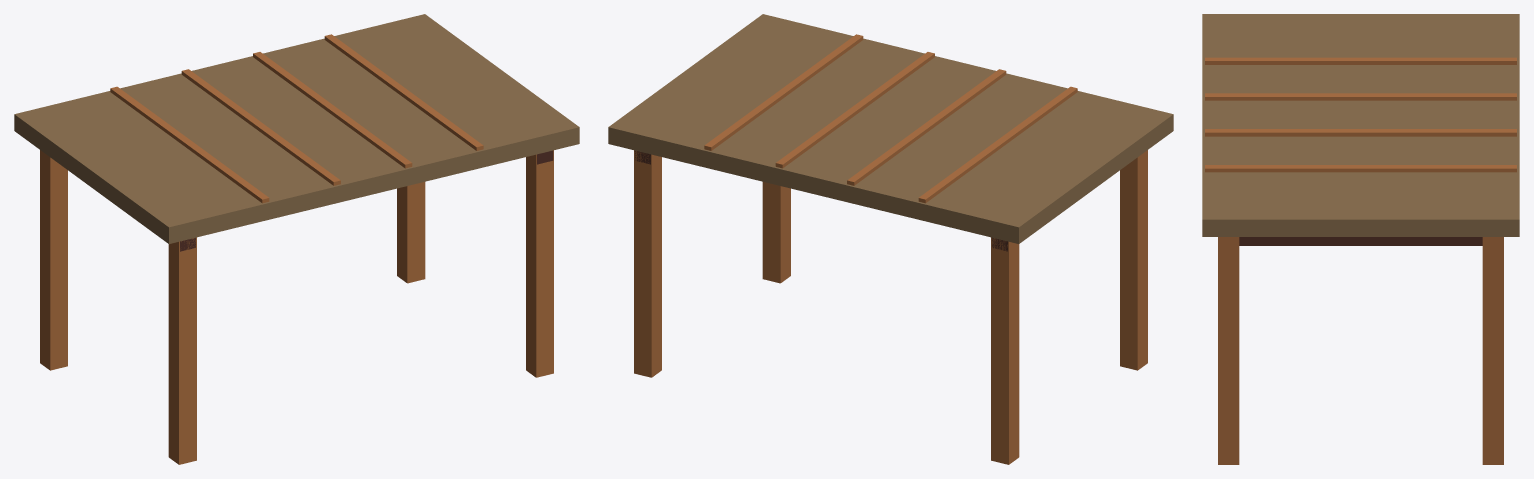
3 views of the same model, side by side, from view 1: azimuth 30°, elevation 25°; view 2: azimuth 150°, elevation 25°; view 3: azimuth 270°, elevation 25° (orthographic). The views are drawn at different scales.
Visible parts, largest first — view 1: root_pal_khakiSeam, root_pal_woodWarm; view 2: root_pal_khakiSeam, root_pal_woodWarm; view 3: root_pal_khakiSeam, root_pal_woodWarm, root_pal_hairBrown.
Boxes of the visible parts, x1,y1,x2,y2 form: root_pal_khakiSeam: (14,14,579,243); root_pal_woodWarm: (40,34,553,464); root_pal_khakiSeam: (608,14,1173,243); root_pal_woodWarm: (634,34,1147,464); root_pal_khakiSeam: (1202,14,1519,236); root_pal_woodWarm: (1205,57,1516,464); root_pal_hairBrown: (1239,237,1482,245).
Bounding box in the file's own units: 4.6 × 2.69 × 3.
